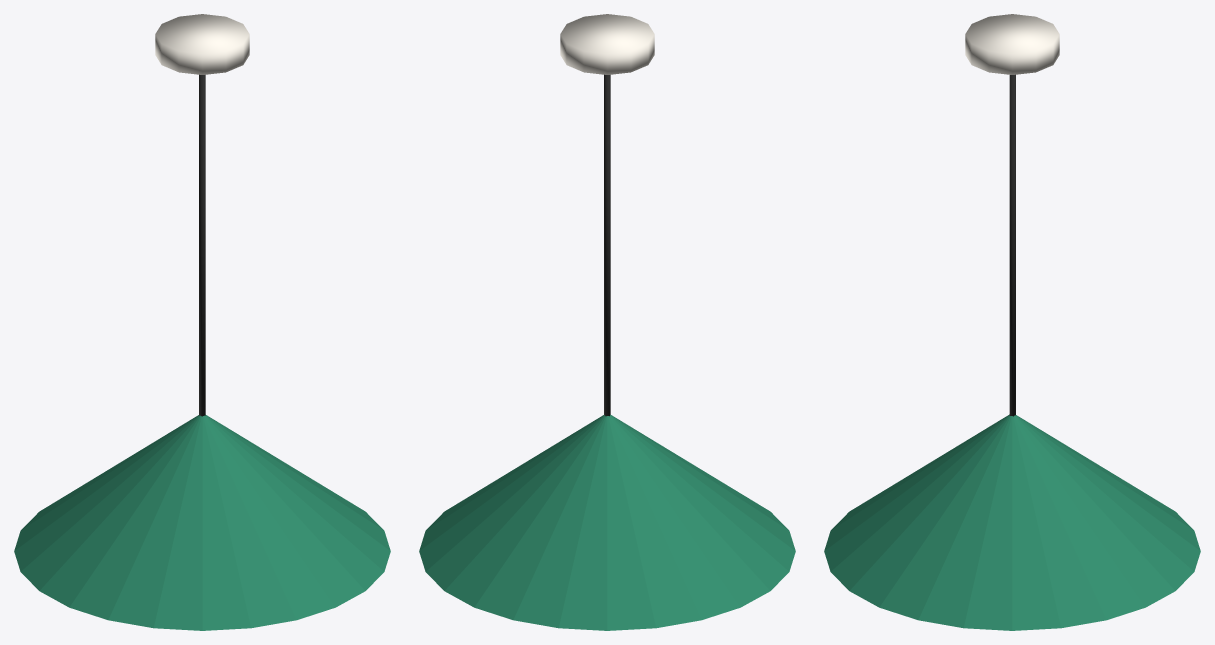
The model's file is lampa.glb.
The picture shows the model from 3 angles, left to right: view 1: azimuth 30°, elevation 25°; view 2: azimuth 150°, elevation 25°; view 3: azimuth 270°, elevation 25°; orthographic projection.
Visible parts, largest first — view 1: lampa; view 2: lampa; view 3: lampa.
Boxes of the visible parts, box(x1,y1,x2,y2) form: lampa: box(14, 14, 390, 630); lampa: box(419, 14, 795, 630); lampa: box(824, 14, 1200, 630).
Bounding box in the file's own units: 0.64 × 1.03 × 0.64.
